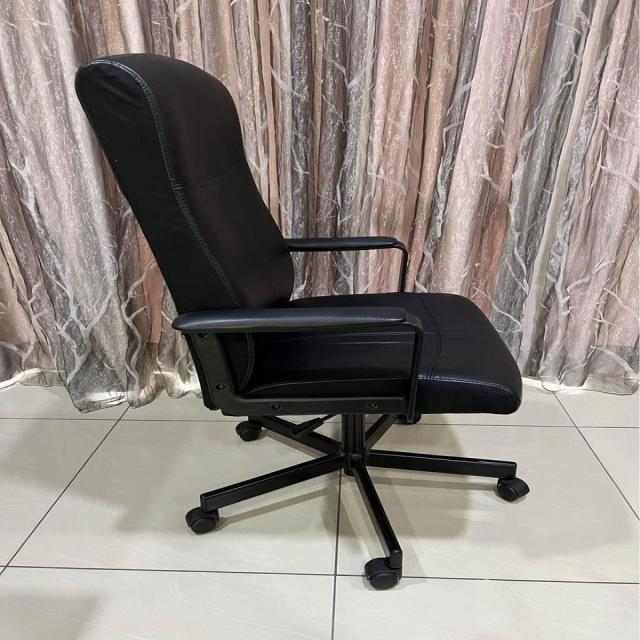Chair: (47, 45, 553, 607)
